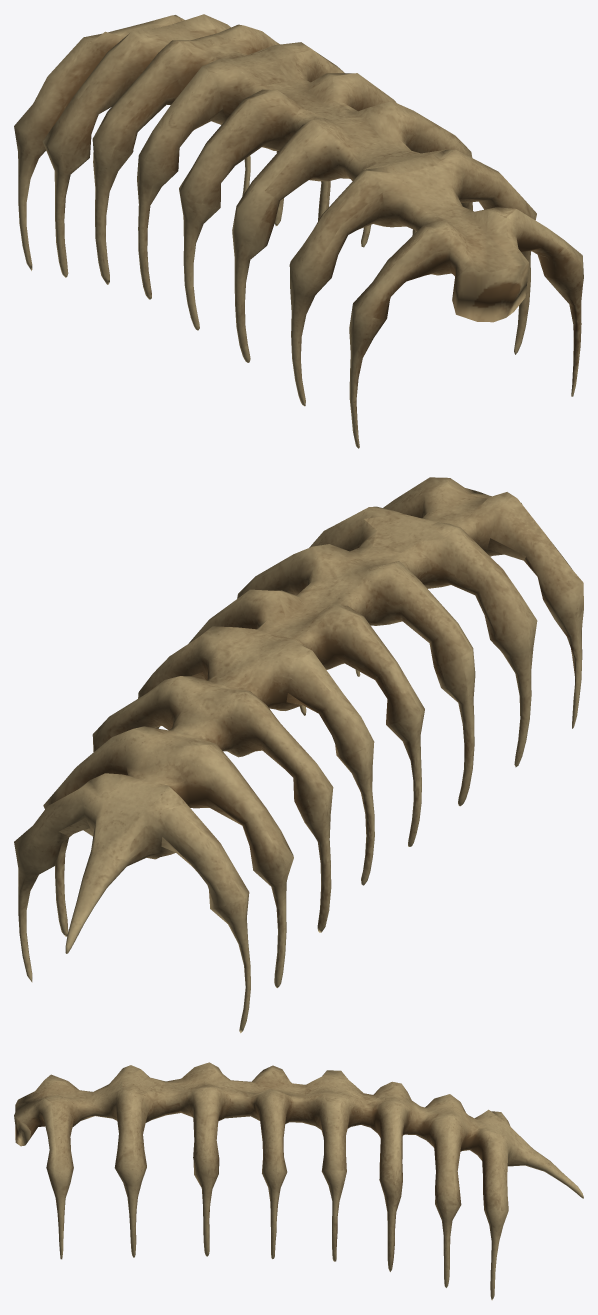
Rendered from worm_fossile_spine.fbx.
3 views of the same model, one above another, from view 1: azimuth 30°, elevation 25°; view 2: azimuth 150°, elevation 25°; view 3: azimuth 270°, elevation 25° (orthographic). The views are drawn at different scales.
Visible parts, largest first — view 1: worm_spine_l; view 2: worm_spine_l; view 3: worm_spine_l.
Part boxes in pixels (x1,y1,x2,y2): worm_spine_l: (14, 14, 583, 448); worm_spine_l: (14, 477, 583, 1033); worm_spine_l: (14, 1062, 583, 1300).
Bounding box in the file's own units: 1212 × 1390 × 3733.
Materials: 1 (1 with a texture image).
